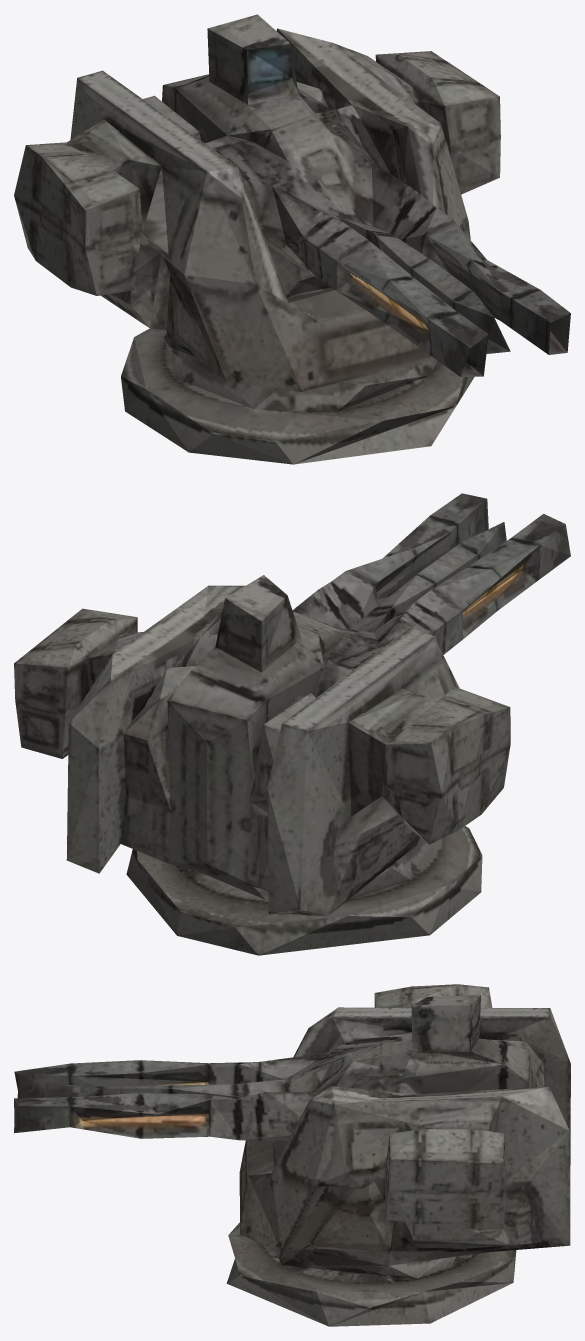
File: struct.ranged_defense.head3.glb
3 views of the same model, one above another, from view 1: azimuth 30°, elevation 25°; view 2: azimuth 150°, elevation 25°; view 3: azimuth 270°, elevation 25° (orthographic). The views are drawn at different scales.
Parts seen in each view (by area): view 1: body; view 2: body; view 3: body.
Part boxes in pixels (x1,y1,x2,y2): body: (14,14,570,464); body: (14,493,570,955); body: (14,984,570,1326).
Size of the model in its own units: 0.8641 by 0.6374 by 1.2.
Materials: 1 (1 with a texture image).
